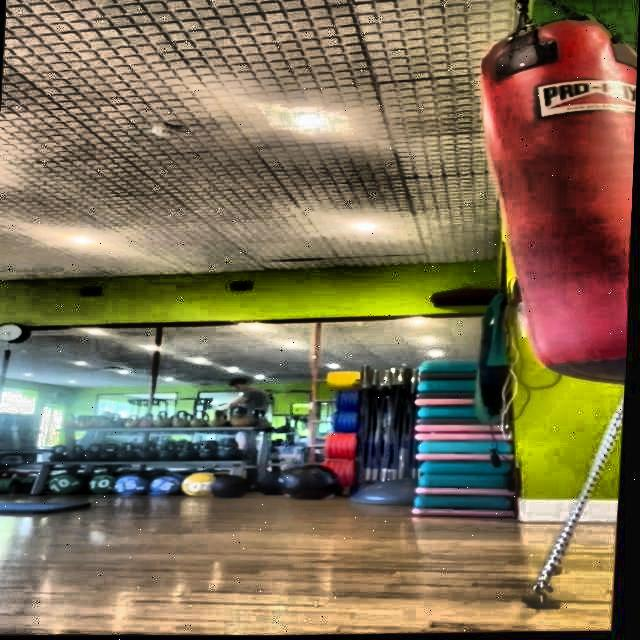boxing-bag: (463, 0, 640, 392)
